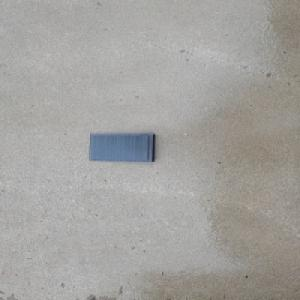PlasticPart: (87, 133, 156, 162)
